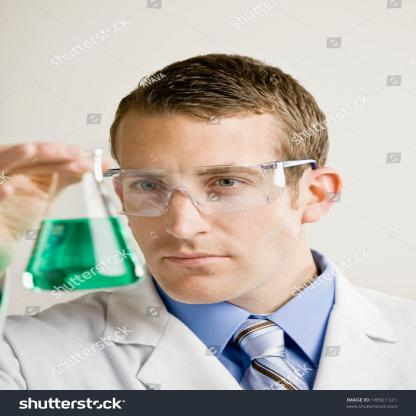oculos: (119, 162, 286, 216)
